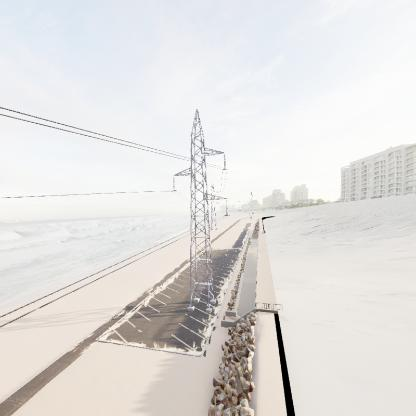tower: (171, 107, 232, 316)
